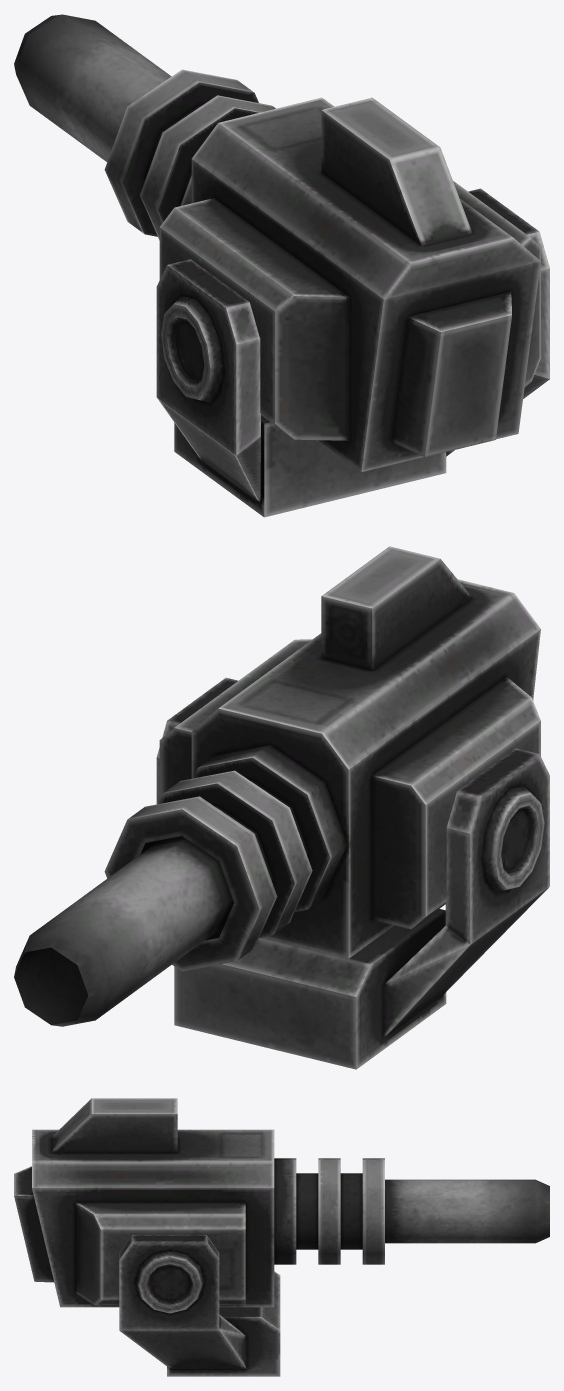
File: Turret_AC20.FBX
The picture shows the model from 3 angles, top to bottom: view 1: azimuth 30°, elevation 25°; view 2: azimuth 150°, elevation 25°; view 3: azimuth 270°, elevation 25°; orthographic projection. The views are drawn at different scales.
Visible parts, largest first — view 1: mantlet_1 ac20, turret ac20, barrel_1 ac20; view 2: mantlet_1 ac20, turret ac20, barrel_1 ac20; view 3: mantlet_1 ac20, turret ac20, barrel_1 ac20.
Boxes of the visible parts, x1,y1,x2,y2 form: mantlet_1 ac20: (104,69,540,471); turret ac20: (156,188,549,517); barrel_1 ac20: (14,14,171,161); mantlet_1 ac20: (104,546,540,971); turret ac20: (156,677,549,1069); barrel_1 ac20: (14,837,233,1026); mantlet_1 ac20: (14,1098,384,1307); turret ac20: (119,1235,280,1376); barrel_1 ac20: (385,1179,549,1243).
Size of the model in its own units: 12.65 by 13.94 by 27.91.
Materials: 1 (1 with a texture image).
